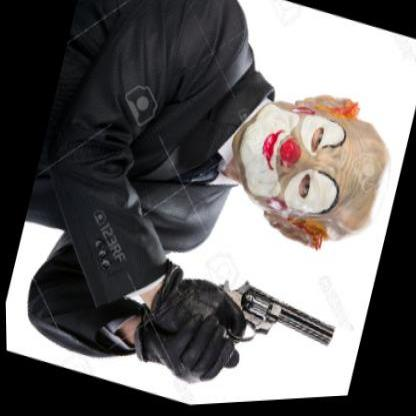pistol: (187, 262, 342, 394)
